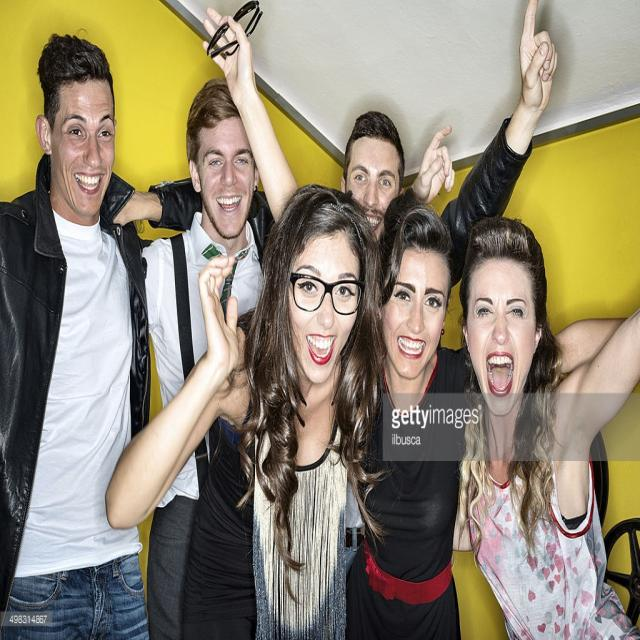body: (138, 77, 460, 638), (102, 180, 390, 640), (197, 0, 561, 295), (197, 0, 562, 290), (0, 28, 156, 640), (452, 212, 640, 640)
